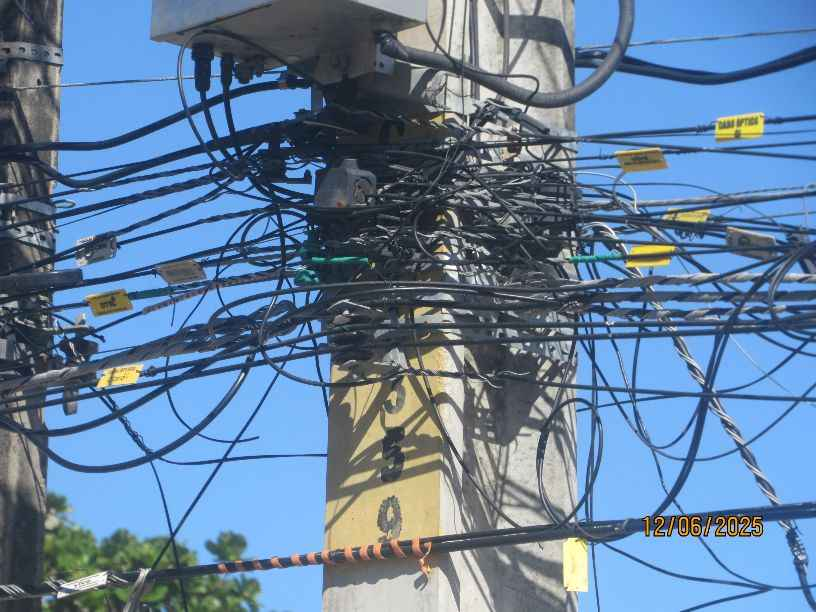fibra_optica: (552, 511, 611, 590), (722, 222, 793, 269), (49, 225, 129, 264), (700, 114, 787, 148), (156, 251, 222, 294), (600, 138, 671, 177), (77, 284, 143, 324), (91, 358, 156, 389), (660, 200, 713, 233), (614, 247, 676, 274)
